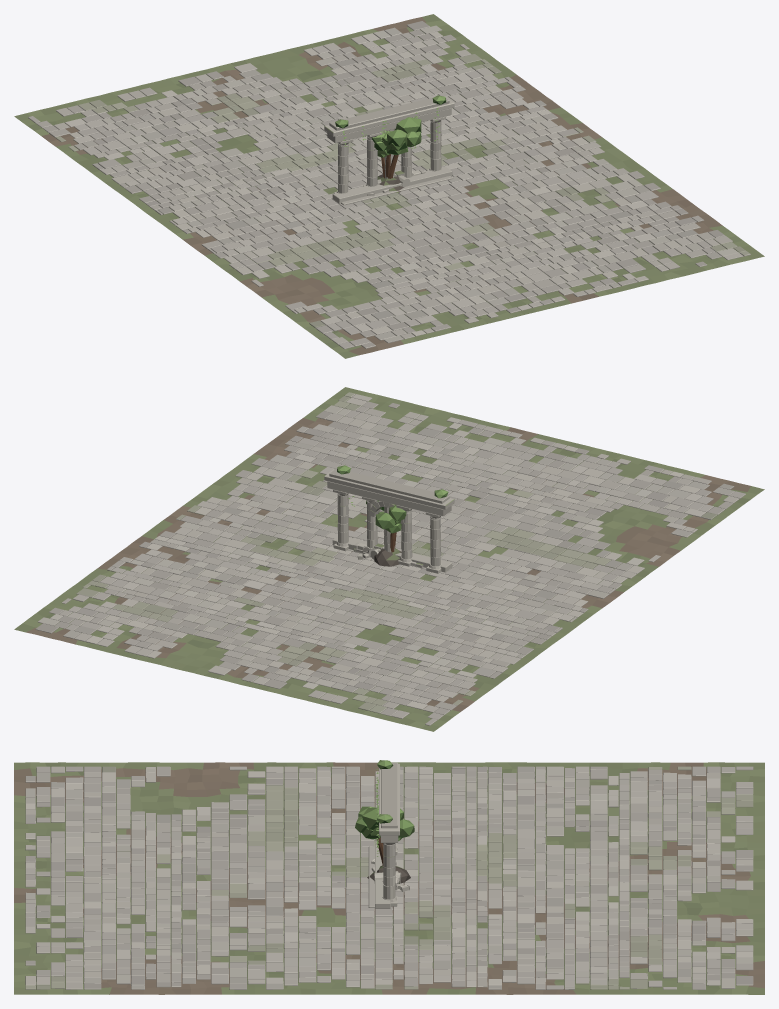
Rendered from falls_lowpoly.glb.
3 views of the same model, one above another, from view 1: azimuth 30°, elevation 25°; view 2: azimuth 150°, elevation 25°; view 3: azimuth 270°, elevation 25° (orthographic). The views are drawn at different scales.
Visible parts, largest first — view 1: FRFloor, FRBase, FRPortico, FRTree1; view 2: FRFloor, FRBase, FRPortico; view 3: FRFloor, FRBase, FRPortico, FRTree1.
Boxes of the visible parts, x1,y1,x2,y2 form: FRFloor: (28,21,750,349); FRBase: (14,14,764,358); FRPortico: (324,95,454,205); FRTree1: (386,117,421,178); FRFloor: (35,392,745,725); FRBase: (14,387,764,731); FRPortico: (324,465,454,573); FRFloor: (25,766,753,989); FRBase: (14,762,764,994); FRPortico: (368,760,399,908); FRTree1: (355,806,383,866).
Size of the model in its own units: 49 by 12.93 by 67.
